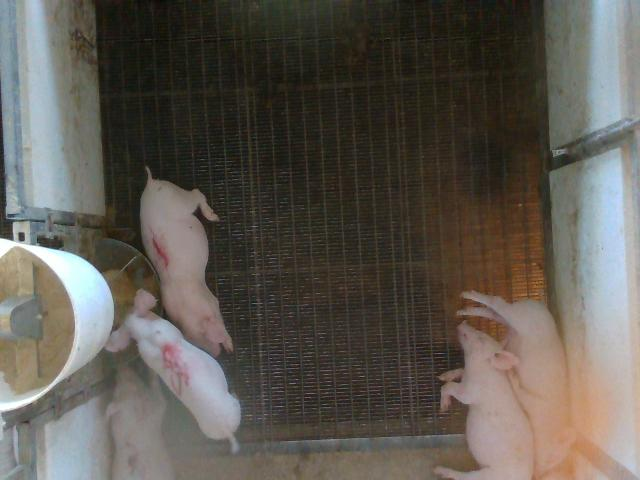pig-1: (140, 166, 232, 356)
pig-3: (106, 366, 174, 478)
pig-5: (105, 289, 241, 452)
